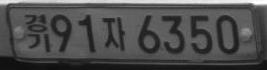0: (215, 13, 240, 55)
1: (76, 13, 100, 53)
3: (161, 14, 185, 54)
5: (188, 14, 213, 54)
6: (137, 14, 161, 54)
9: (50, 13, 72, 52)
경기_V: (23, 13, 51, 52)
자: (102, 16, 126, 51)
